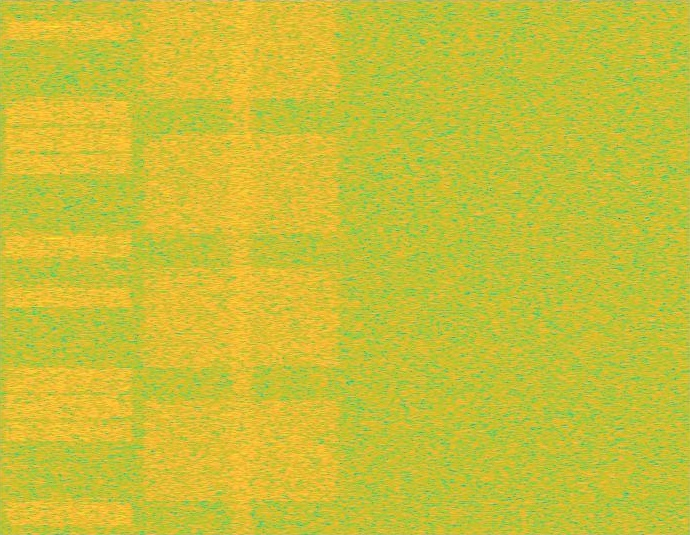5G: (138, 0, 345, 534)
DSSS: (228, 0, 255, 534)
LTE: (0, 0, 138, 534)
Radar: (48, 0, 62, 534)
